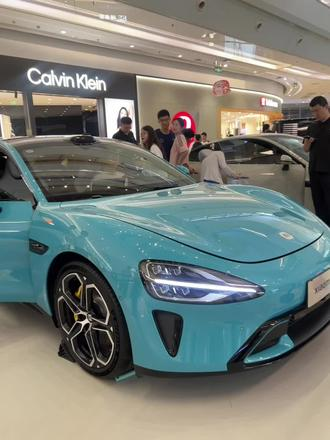su7: (1, 129, 330, 384)
